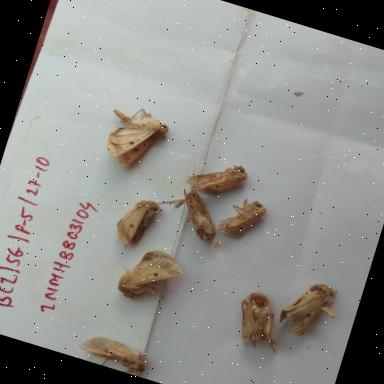abw: (274, 272, 350, 352), (112, 238, 192, 314), (173, 145, 256, 211), (162, 182, 236, 256), (226, 286, 296, 364), (72, 324, 168, 379), (98, 186, 170, 258), (210, 183, 284, 252)
